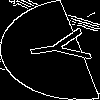Y: (25, 25, 100, 69)
